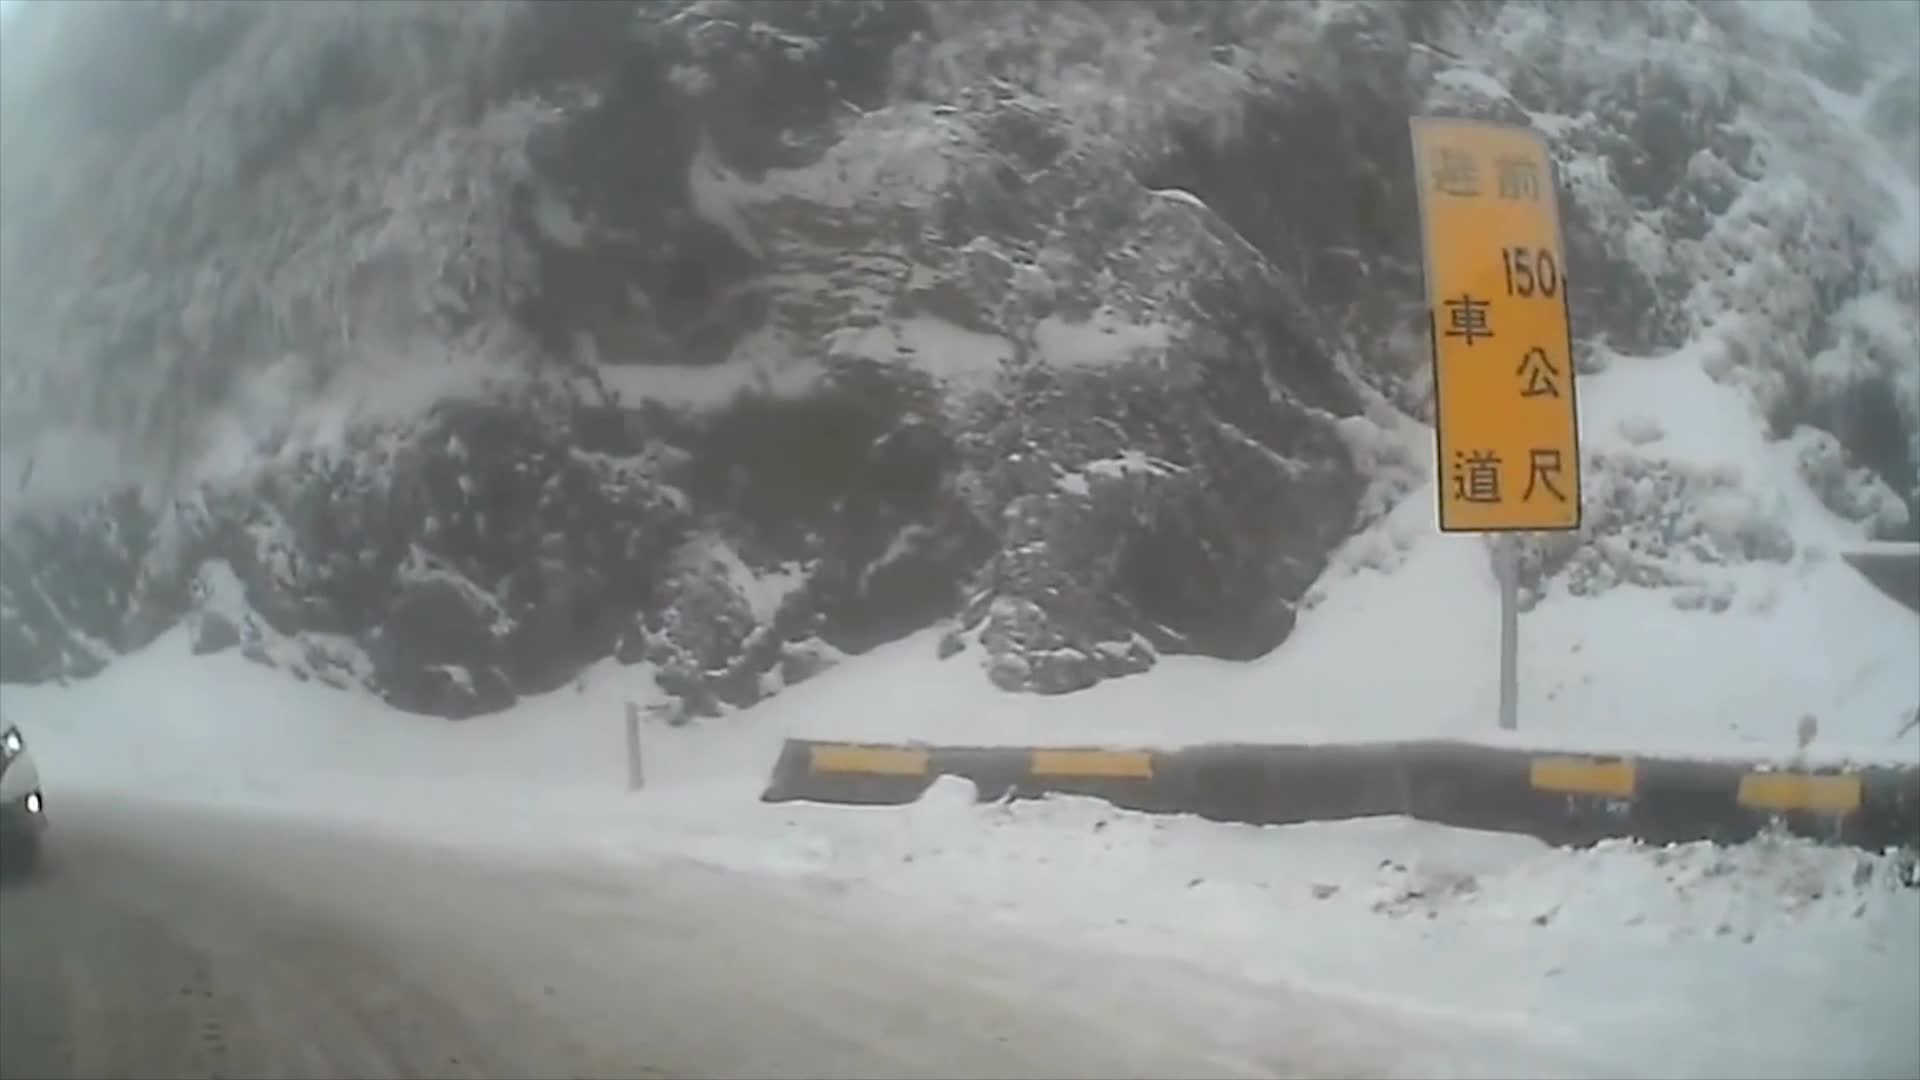vehicle: (1, 712, 47, 886)
